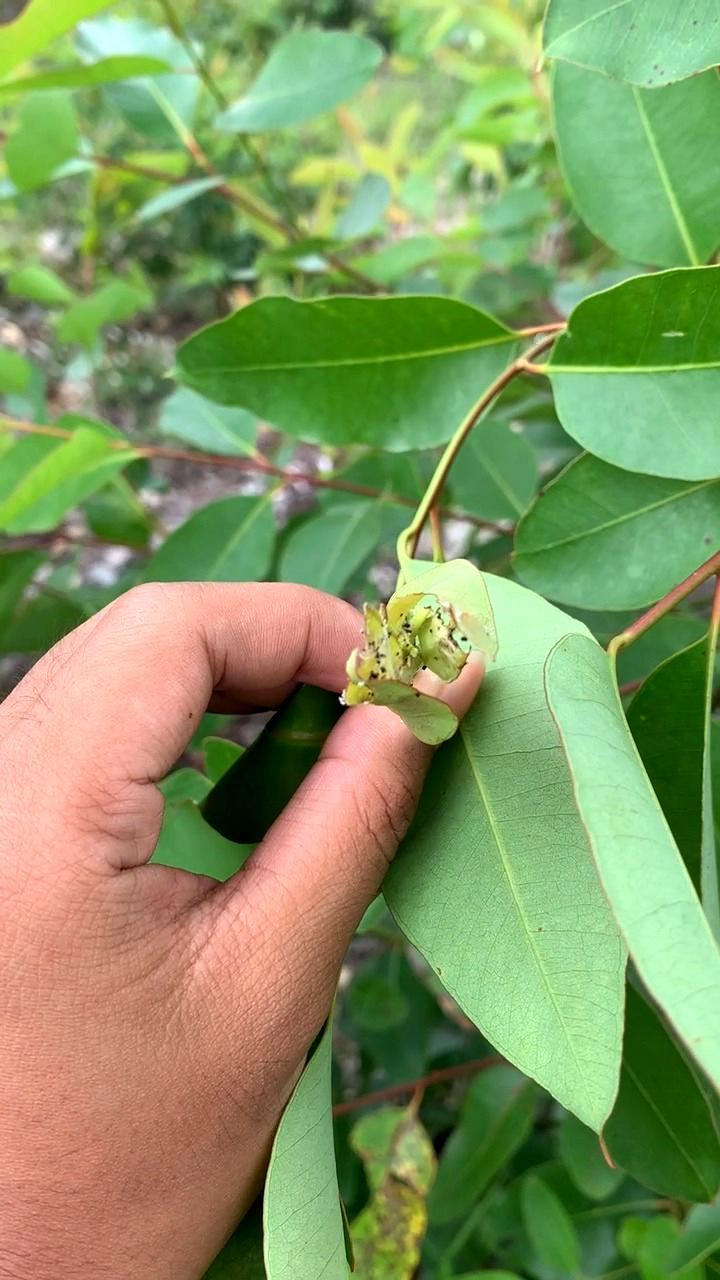Leaf Roller - Leaf: (340, 588, 481, 743)
